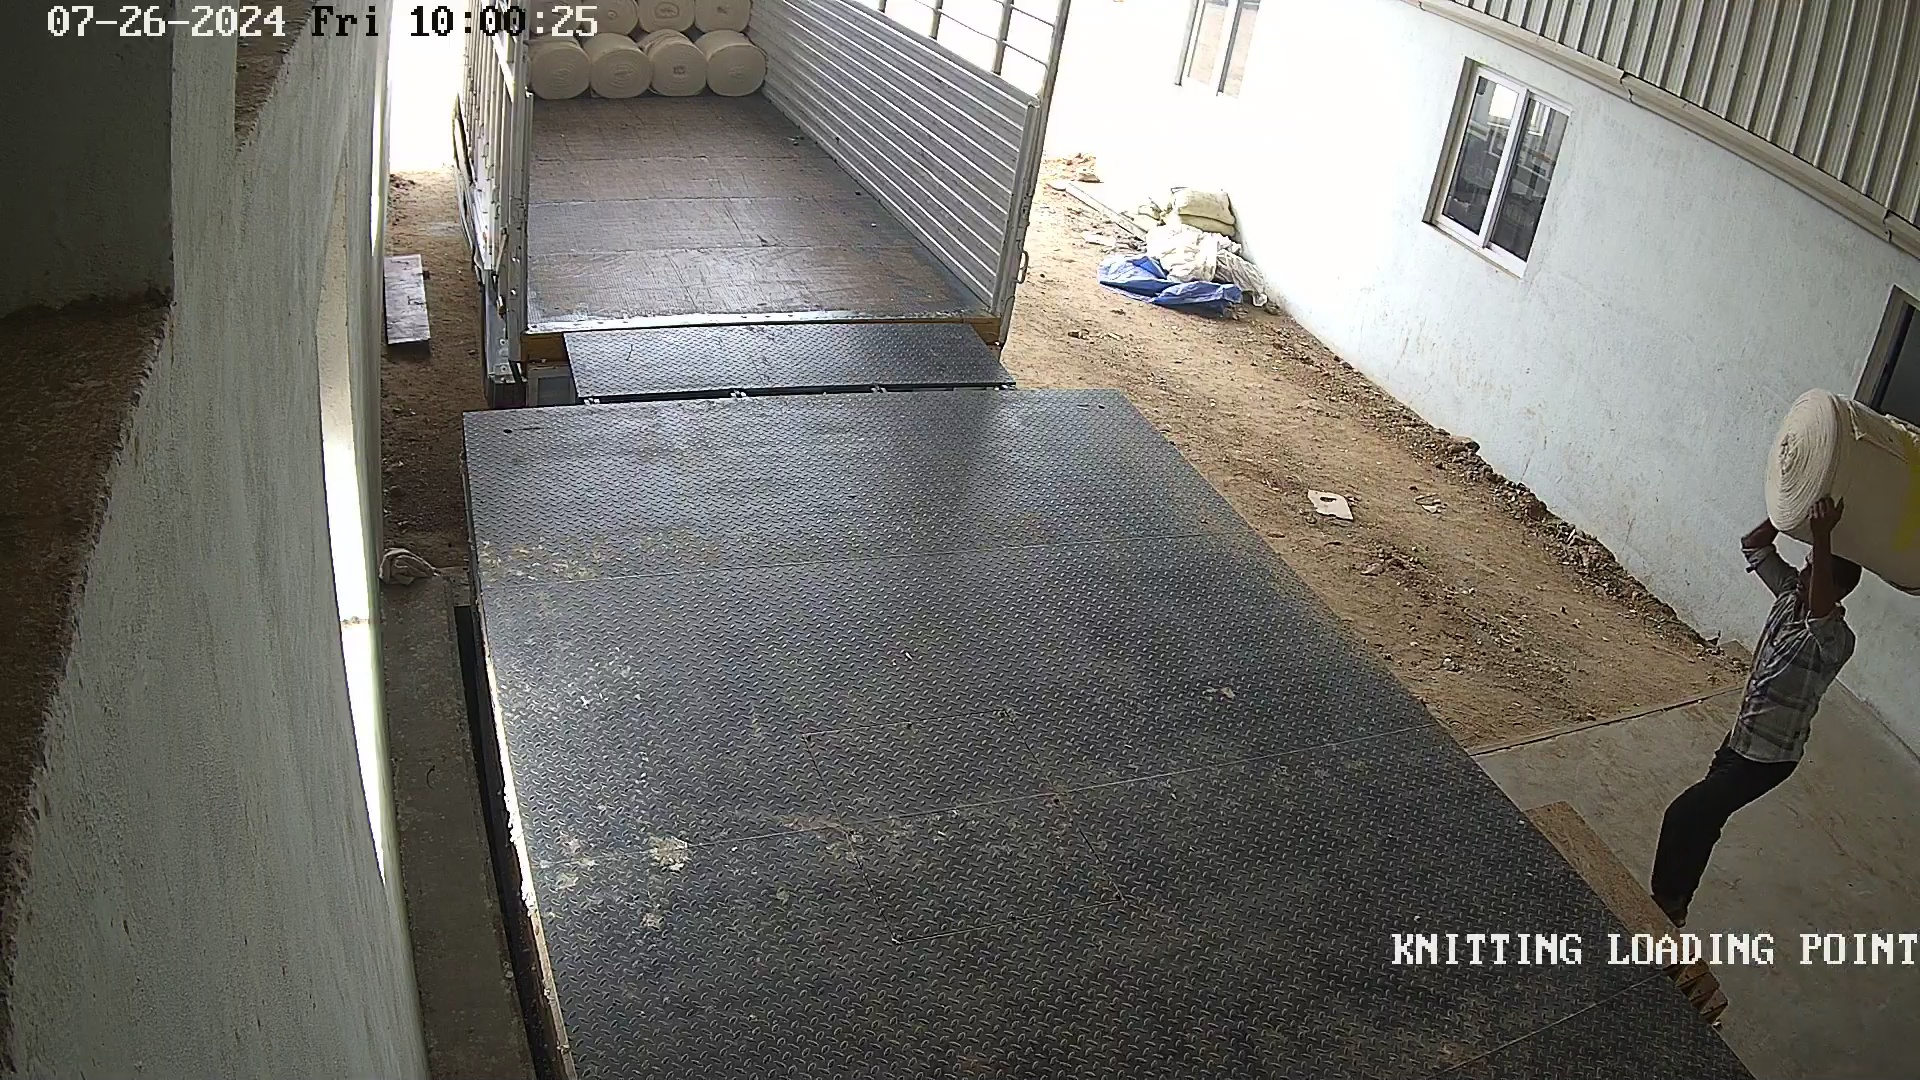bag: (1760, 378, 1920, 607)
